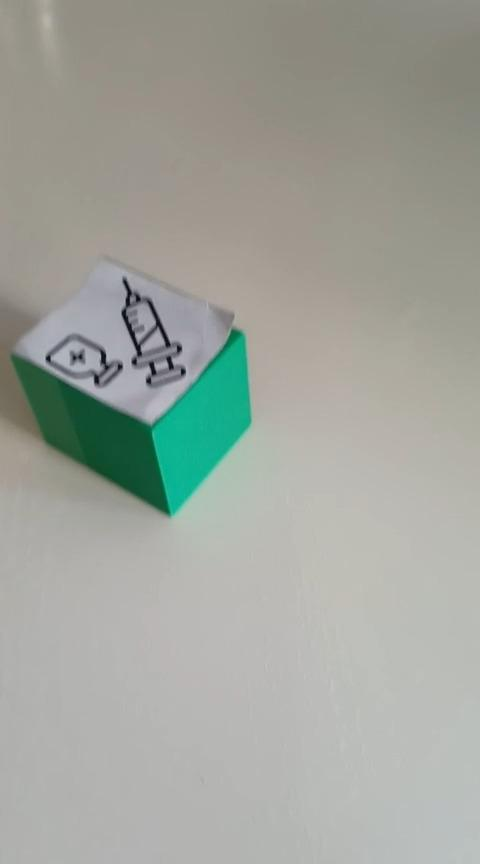antiseptic cream: (9, 253, 253, 517)
